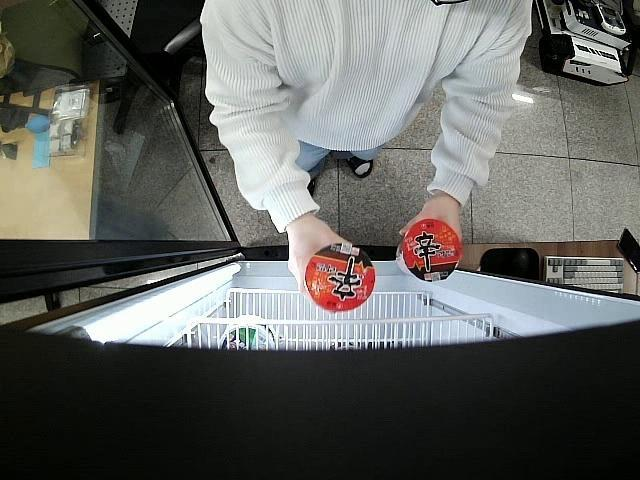02_shinRamen_S: (306, 245, 376, 312), (397, 220, 460, 284)
